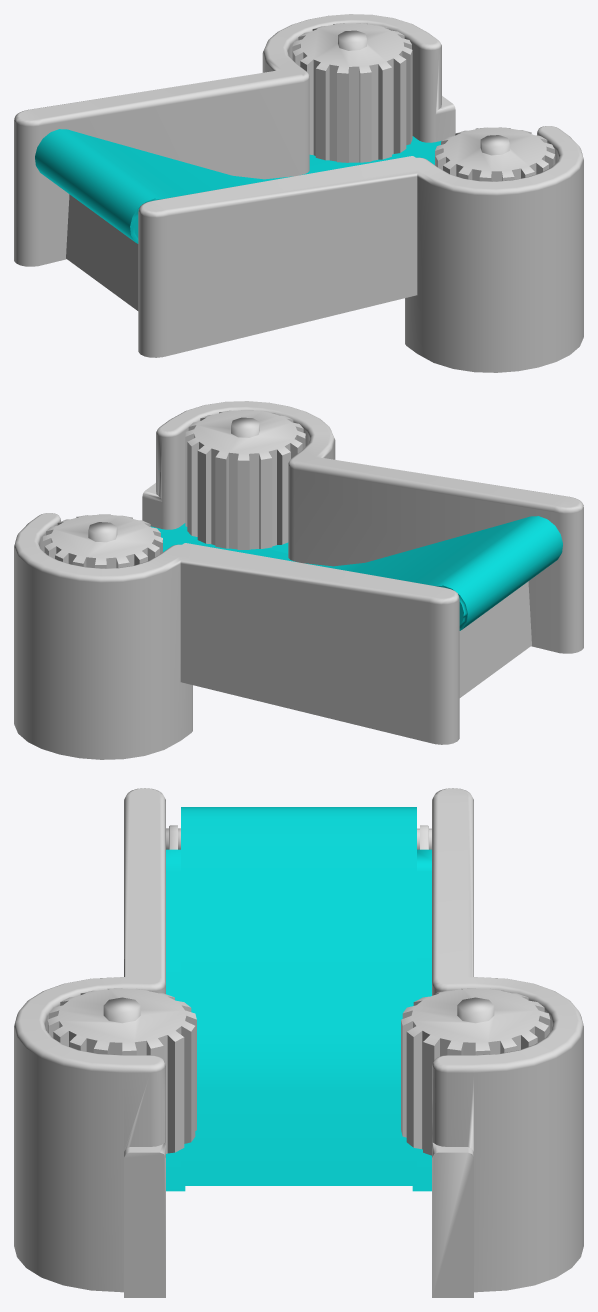
Rendered from BeltPortSenderInternalVariant.gltf.
3 renders of one model, top to bottom at view 1: azimuth 30°, elevation 25°; view 2: azimuth 150°, elevation 25°; view 3: azimuth 270°, elevation 25°, orthographic. The views are drawn at different scales.
Parts seen in each view (by area): view 1: BeltPort_Sender_Main_LOD0.001, BeltPort_Gear_Main_LOD0.002, BeltPort_Gear_Main_LOD0.001; view 2: BeltPort_Sender_Main_LOD0.001, BeltPort_Gear_Main_LOD0.001, BeltPort_Gear_Main_LOD0.002; view 3: BeltPort_Sender_Main_LOD0.001, BeltPort_Gear_Main_LOD0.002, BeltPort_Gear_Main_LOD0.001.
Boxes of the visible parts, x1,y1,x2,y2 form: BeltPort_Sender_Main_LOD0.001: (14,14,583,372); BeltPort_Gear_Main_LOD0.002: (292,23,412,162); BeltPort_Gear_Main_LOD0.001: (435,127,555,181); BeltPort_Sender_Main_LOD0.001: (14,401,583,759); BeltPort_Gear_Main_LOD0.001: (185,410,305,549); BeltPort_Gear_Main_LOD0.002: (42,514,162,568); BeltPort_Sender_Main_LOD0.001: (14,788,583,1297); BeltPort_Gear_Main_LOD0.002: (401,988,550,1155); BeltPort_Gear_Main_LOD0.001: (47,988,196,1153).
Bounding box in the file's own units: 1 × 0.45 × 0.9241.
